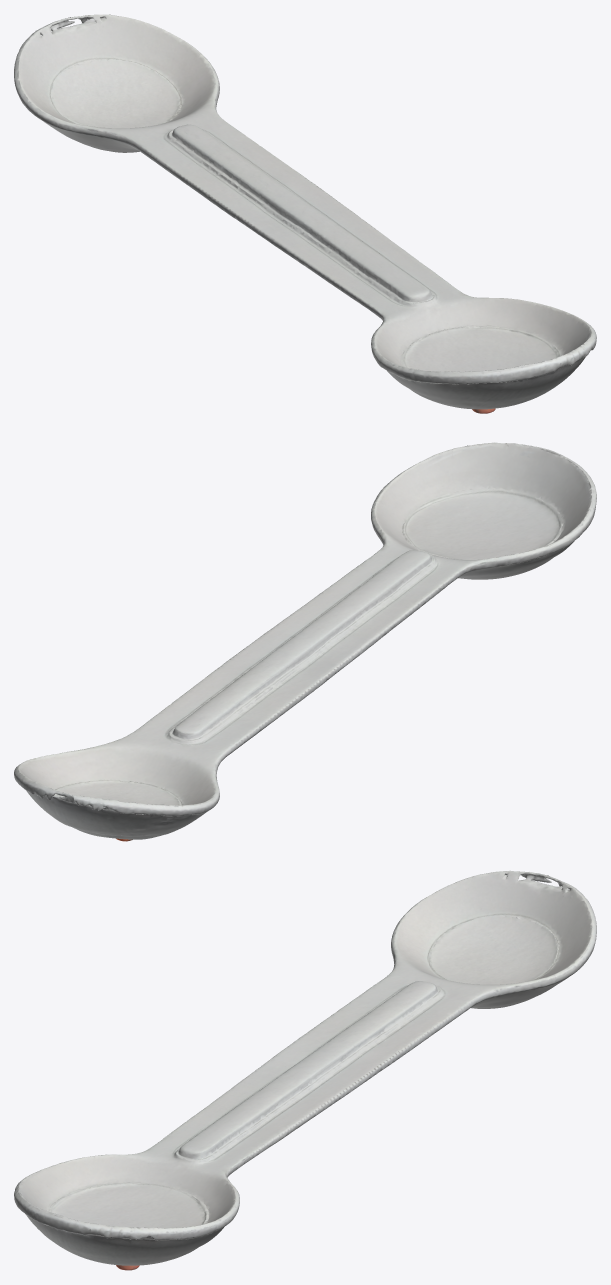
File: MeasuringSpoon.fbx
3 views of the same model, one above another, from view 1: azimuth 30°, elevation 25°; view 2: azimuth 150°, elevation 25°; view 3: azimuth 330°, elevation 25° (orthographic).
Parts seen in each view (by area): view 1: texture_mapping; view 2: texture_mapping; view 3: texture_mapping.
Part boxes in pixels (left/top/right/bottom): texture_mapping: left=14, top=14, right=596, bottom=413; texture_mapping: left=14, top=442, right=596, bottom=841; texture_mapping: left=14, top=870, right=596, bottom=1270.
Size of the model in its own units: 0.2345 by 0.9996 by 0.1022.
1 material, 1 textured.
